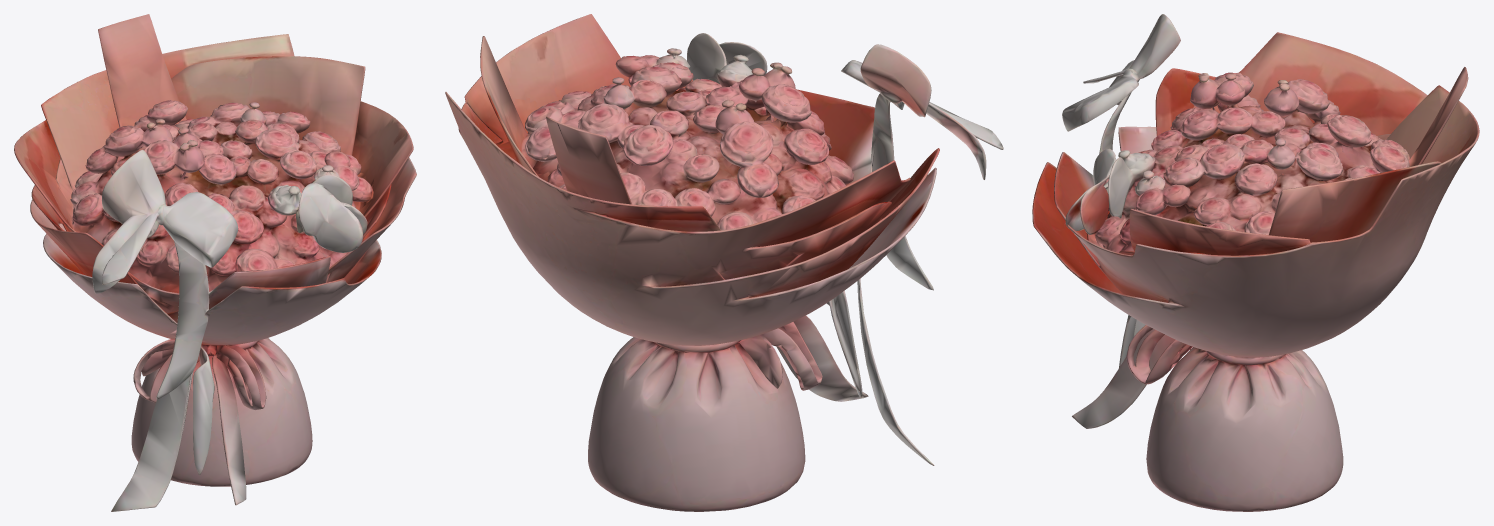
The model's file is bouquet.glb.
3 views of the same model, side by side, from view 1: azimuth 30°, elevation 25°; view 2: azimuth 150°, elevation 25°; view 3: azimuth 270°, elevation 25° (orthographic). The views are drawn at different scales.
Visible parts, largest first — view 1: material; view 2: material; view 3: material.
Boxes of the visible parts, x1,y1,x2,y2 form: material: (14,14,416,511); material: (445,14,1003,511); material: (1032,14,1479,511).
Bounding box in the file's own units: 0.8894 × 0.8625 × 0.8783.
1 material, 1 textured.
